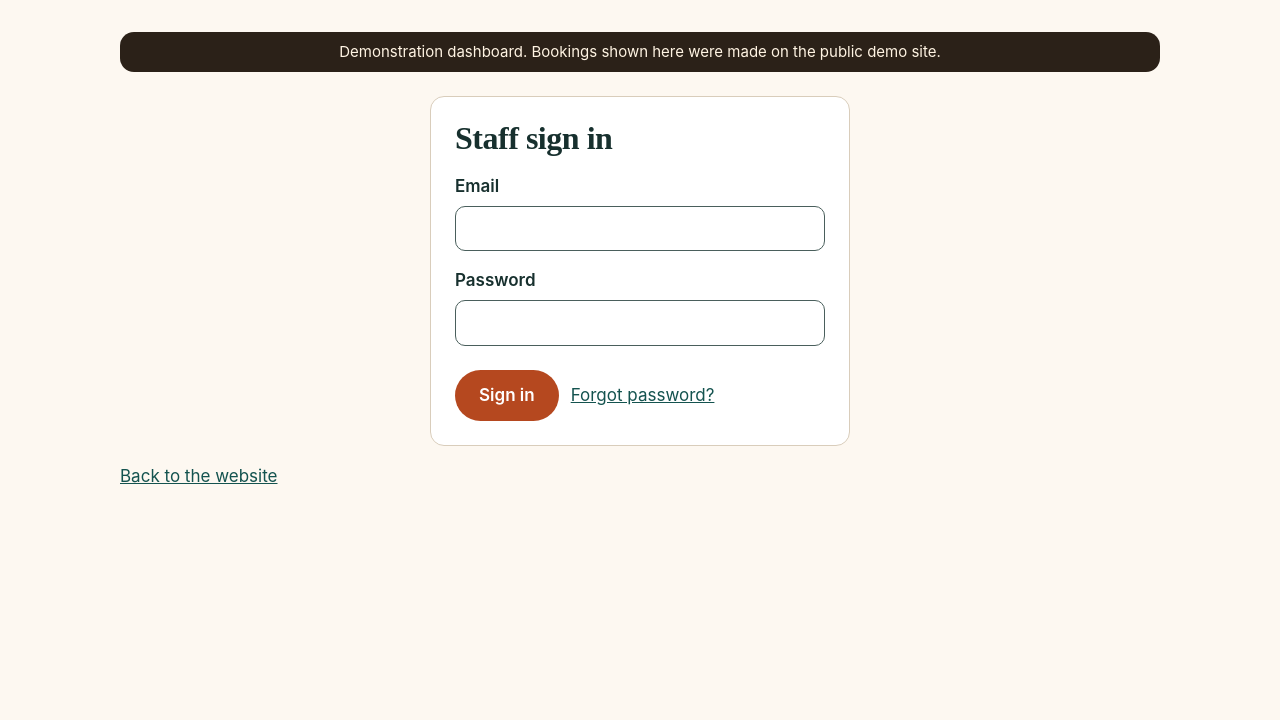
Test: StaffApp › cancels only after a second, explicit click
Type "maya@pawcare.example" into the field labelled "Email" at (640, 229), box [455,206,825,251]
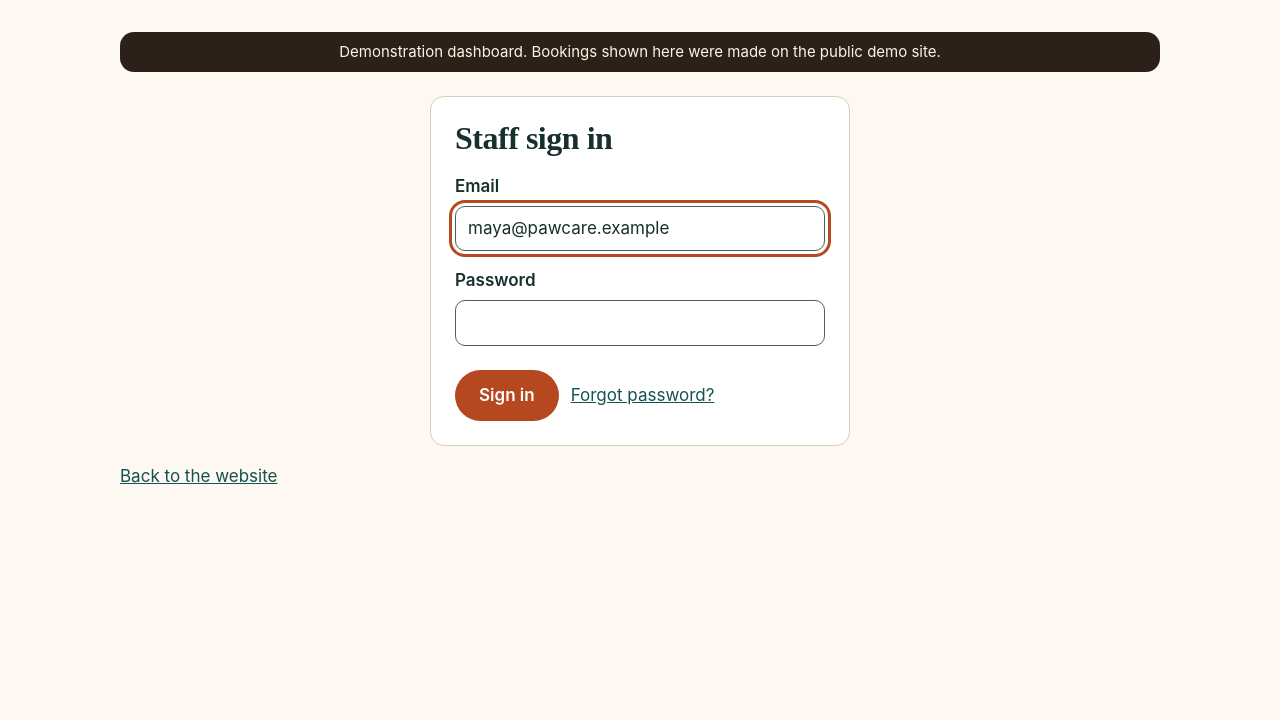
Type "correct-horse-battery" into the password field labelled "Password" at (640, 323), box [455,300,825,346]
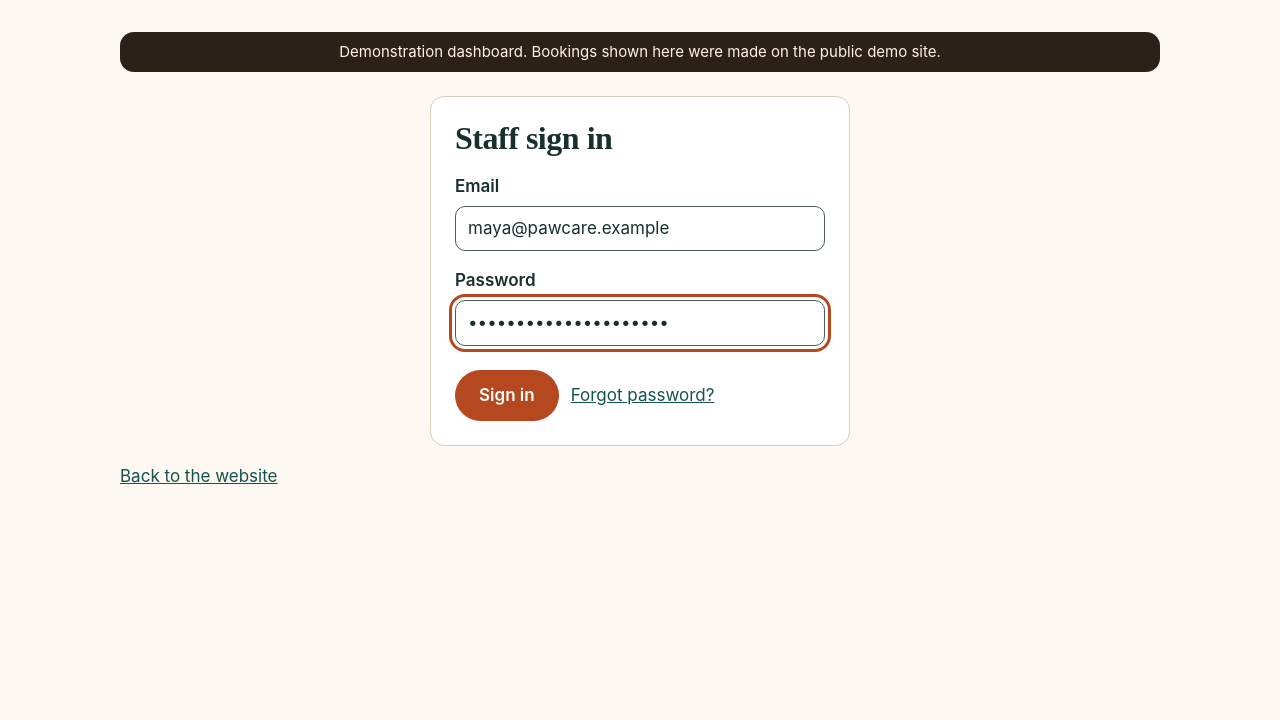
Click the button "Sign in" at (507, 395), box [455,370,559,421]
(page scrolled)
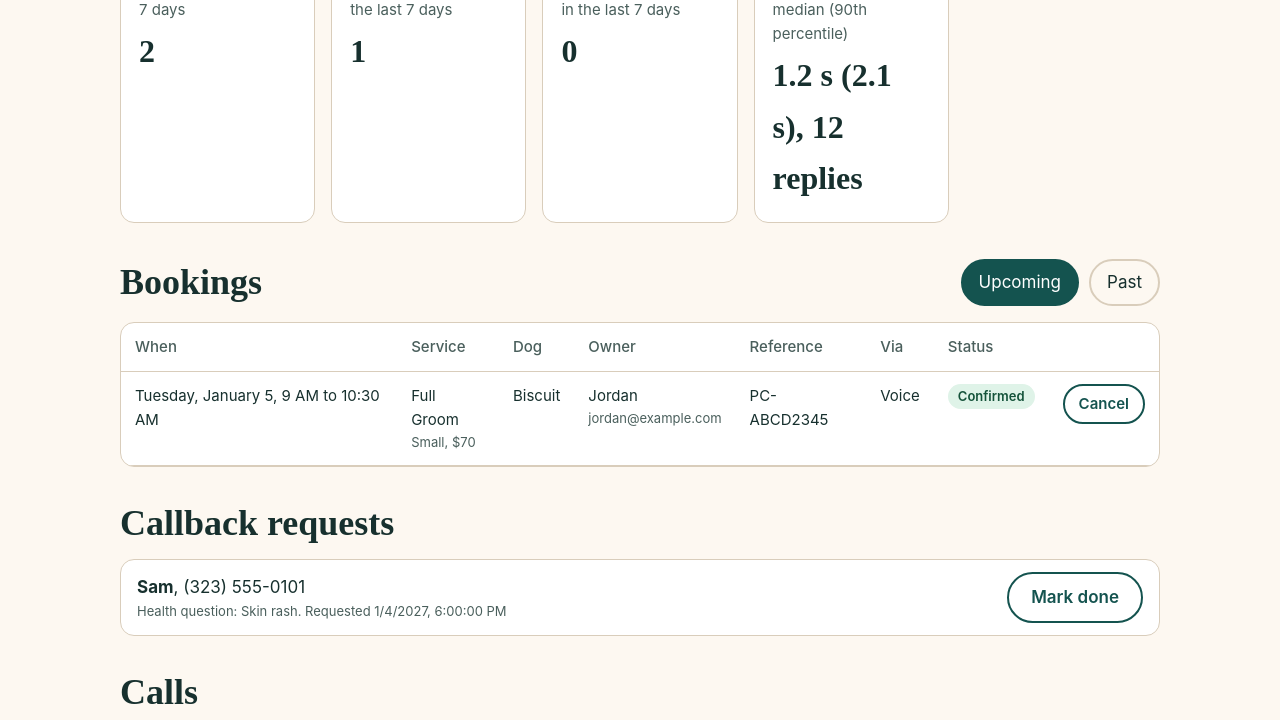
Click the button "Cancel" at (1104, 404), box [1063,384,1145,424]
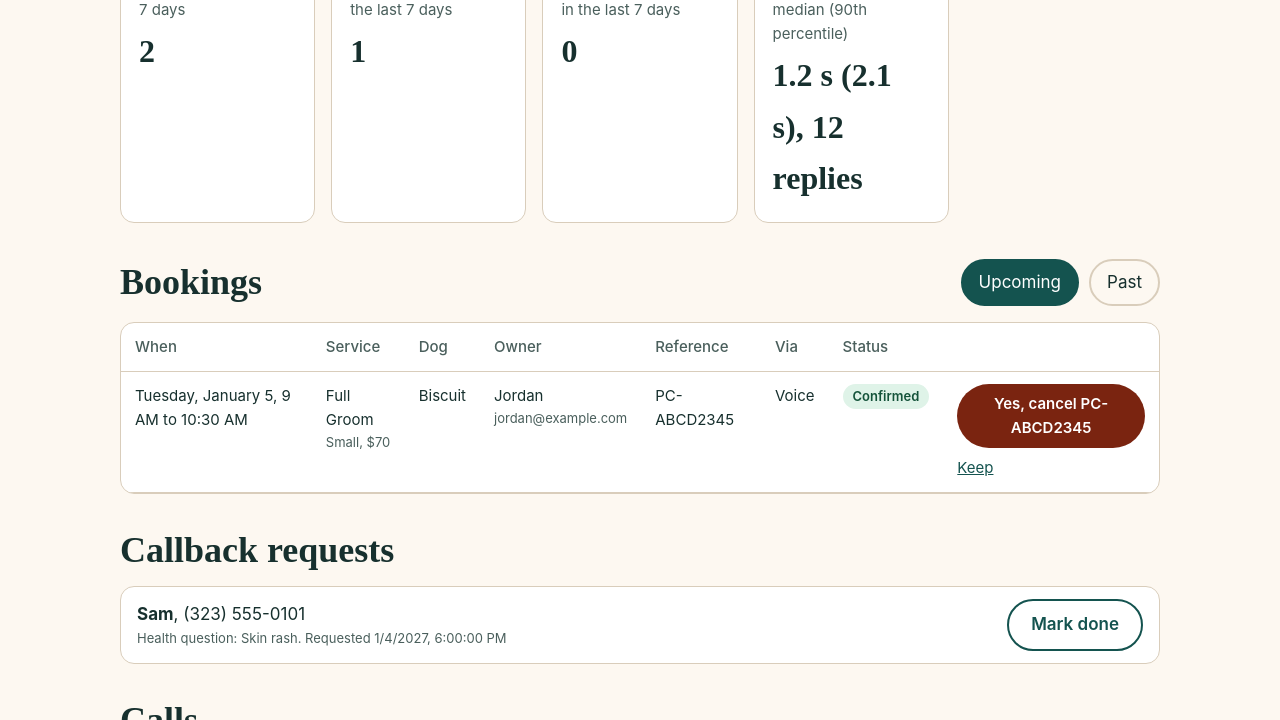
Click the button "Yes, cancel PC-ABCD2345" at (1051, 416), box [957,384,1145,448]
(page scrolled)
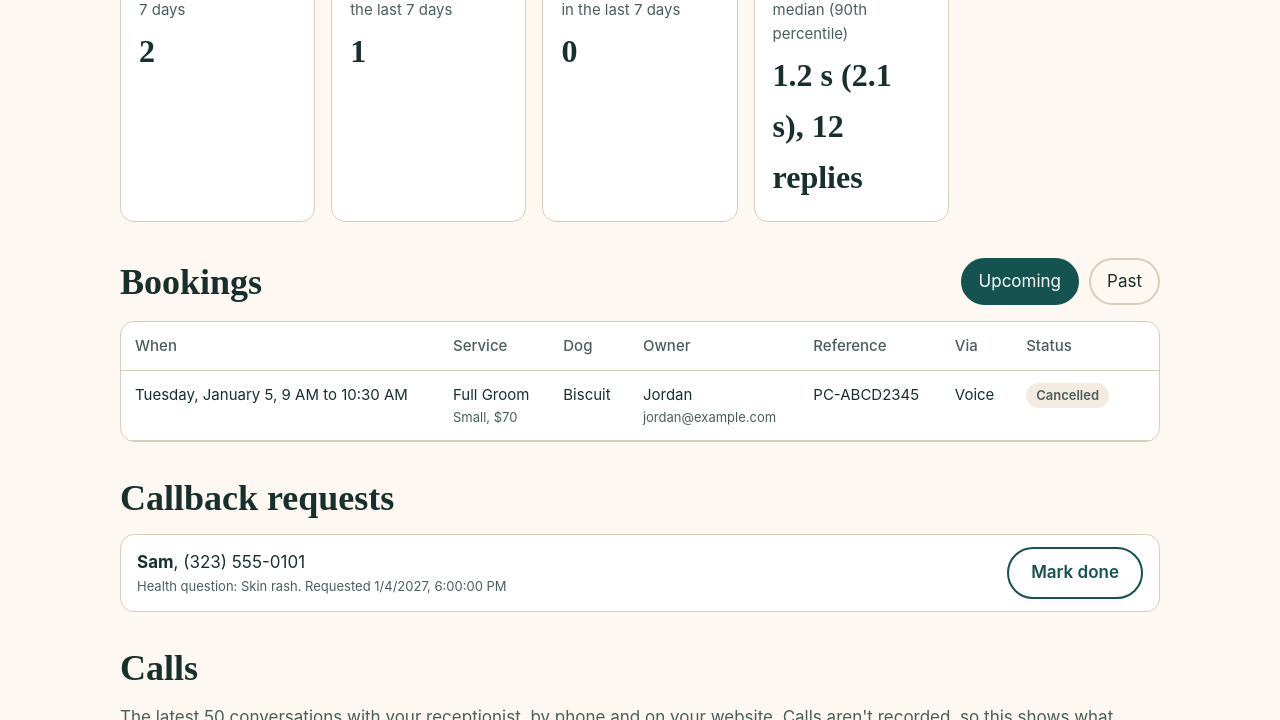
Result: the text "Cancelled" is shown at [1026,383,1109,408]
